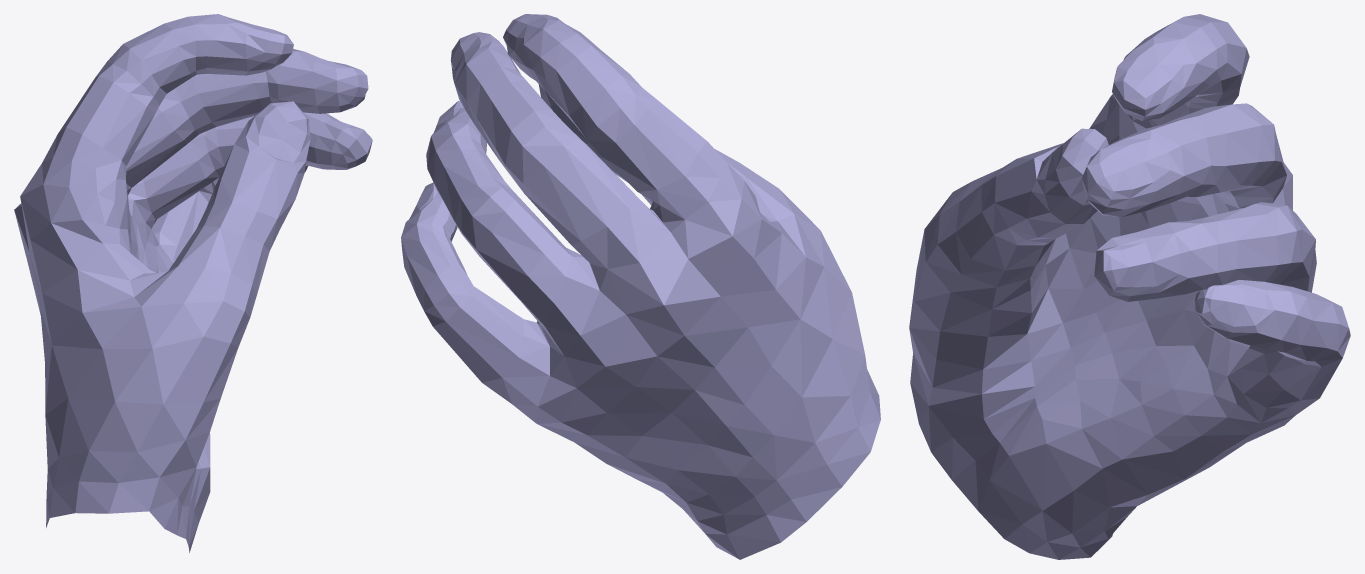
File: frame_0016_source_000016_hand.glb
3 renders of one model, left to right at view 1: azimuth 30°, elevation 25°; view 2: azimuth 150°, elevation 25°; view 3: azimuth 270°, elevation 25°, orthographic. The views are drawn at different scales.
Visible parts, largest first — view 1: world; view 2: world; view 3: world.
Boxes of the visible parts, <box> form: world: <box>14,14,372,552</box>; world: <box>401,14,880,559</box>; world: <box>909,14,1350,559</box>.
Size of the model in its own units: 0.1119 by 0.1439 by 0.0969.
